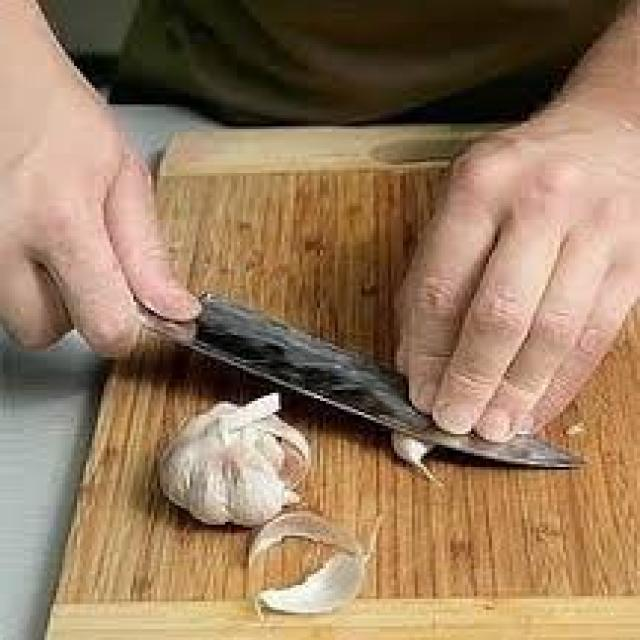Garlic: (133, 383, 309, 531), (362, 412, 456, 487)
